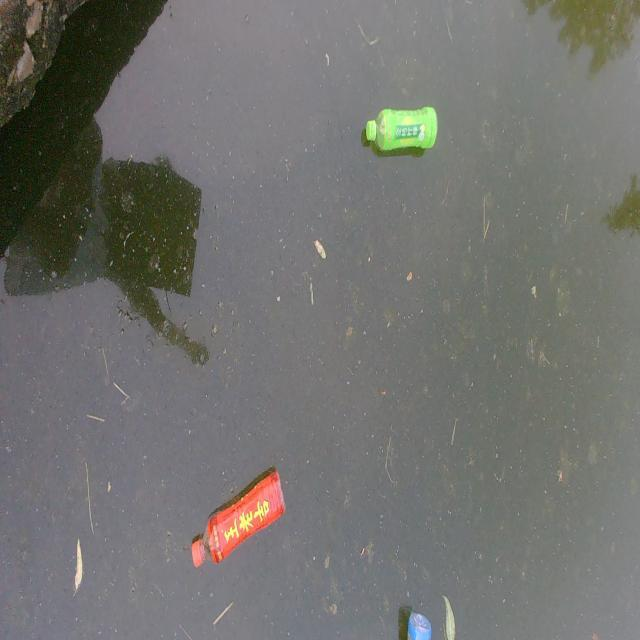bottle: (174, 433, 303, 590), (349, 102, 456, 162), (392, 605, 440, 640)
